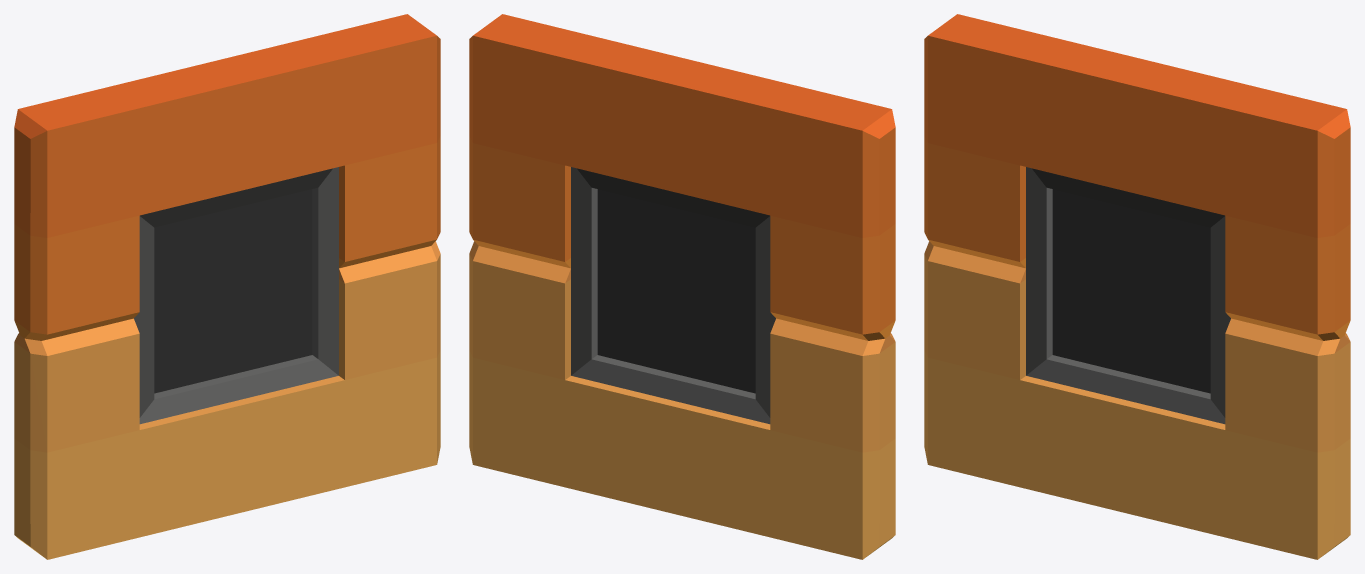
Rendered from kkr_wall_window_closed.obj.
3 views of the same model, side by side, from view 1: azimuth 30°, elevation 25°; view 2: azimuth 150°, elevation 25°; view 3: azimuth 330°, elevation 25° (orthographic).
Size of the model in its own units: 4 by 4 by 0.5.
